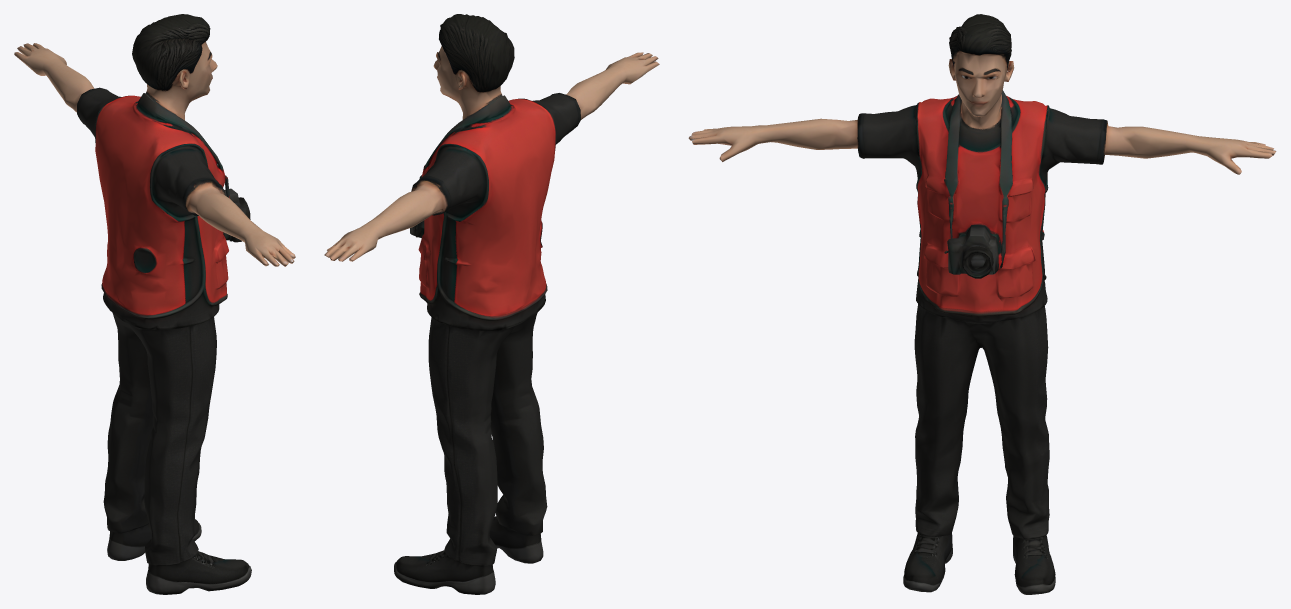
Rendered from crew_photographer.glb.
3 views of the same model, side by side, from view 1: azimuth 30°, elevation 25°; view 2: azimuth 150°, elevation 25°; view 3: azimuth 270°, elevation 25° (orthographic).
Parts seen in each view (by area): view 1: tripo_node_b71cb135-211c-4b52-bc49-4cb74b6cfdf0; view 2: tripo_node_b71cb135-211c-4b52-bc49-4cb74b6cfdf0; view 3: tripo_node_b71cb135-211c-4b52-bc49-4cb74b6cfdf0.
Boxes of the visible parts, x1=… form: tripo_node_b71cb135-211c-4b52-bc49-4cb74b6cfdf0: x1=14, y1=14, x2=295, y2=594; tripo_node_b71cb135-211c-4b52-bc49-4cb74b6cfdf0: x1=324, y1=14, x2=659, y2=594; tripo_node_b71cb135-211c-4b52-bc49-4cb74b6cfdf0: x1=688, y1=14, x2=1276, y2=594.
Bounding box in the file's own units: 0.2488 × 0.9998 × 0.9614.
1 material, 1 textured.
